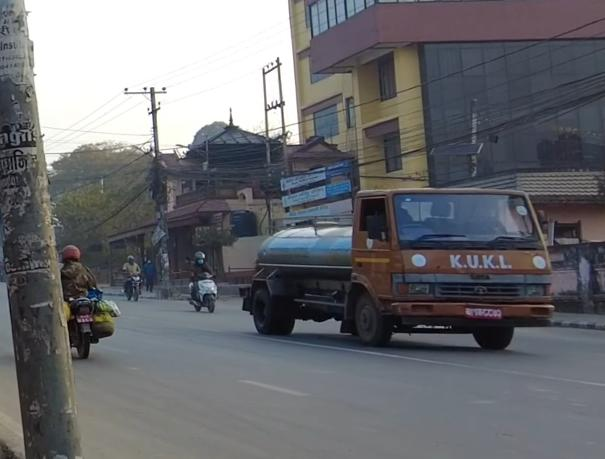bike: (61, 241, 117, 361), (111, 248, 148, 304)
mini_truck: (232, 171, 558, 365)
scooter: (175, 245, 225, 323)
